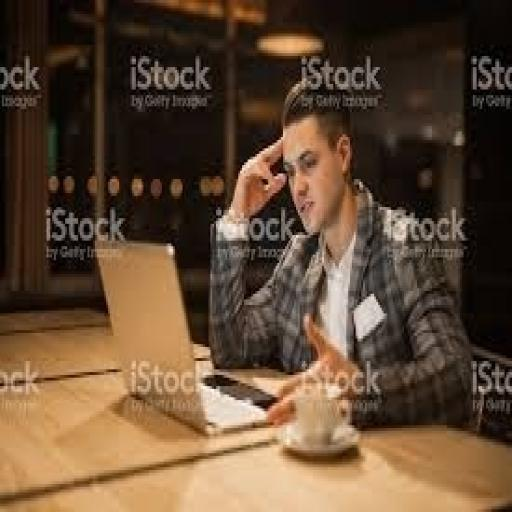using_laptop: (91, 235, 281, 436)
